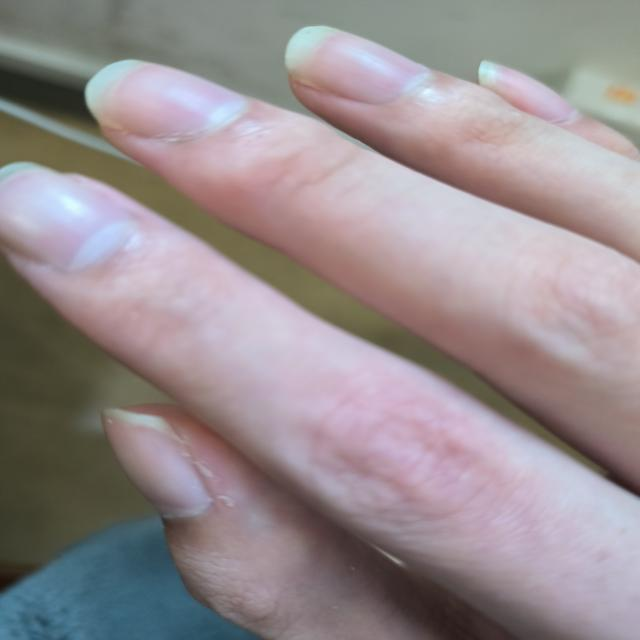Nail: (1, 163, 131, 270), (85, 60, 246, 137), (102, 409, 210, 517), (285, 27, 431, 103), (480, 61, 580, 122)
